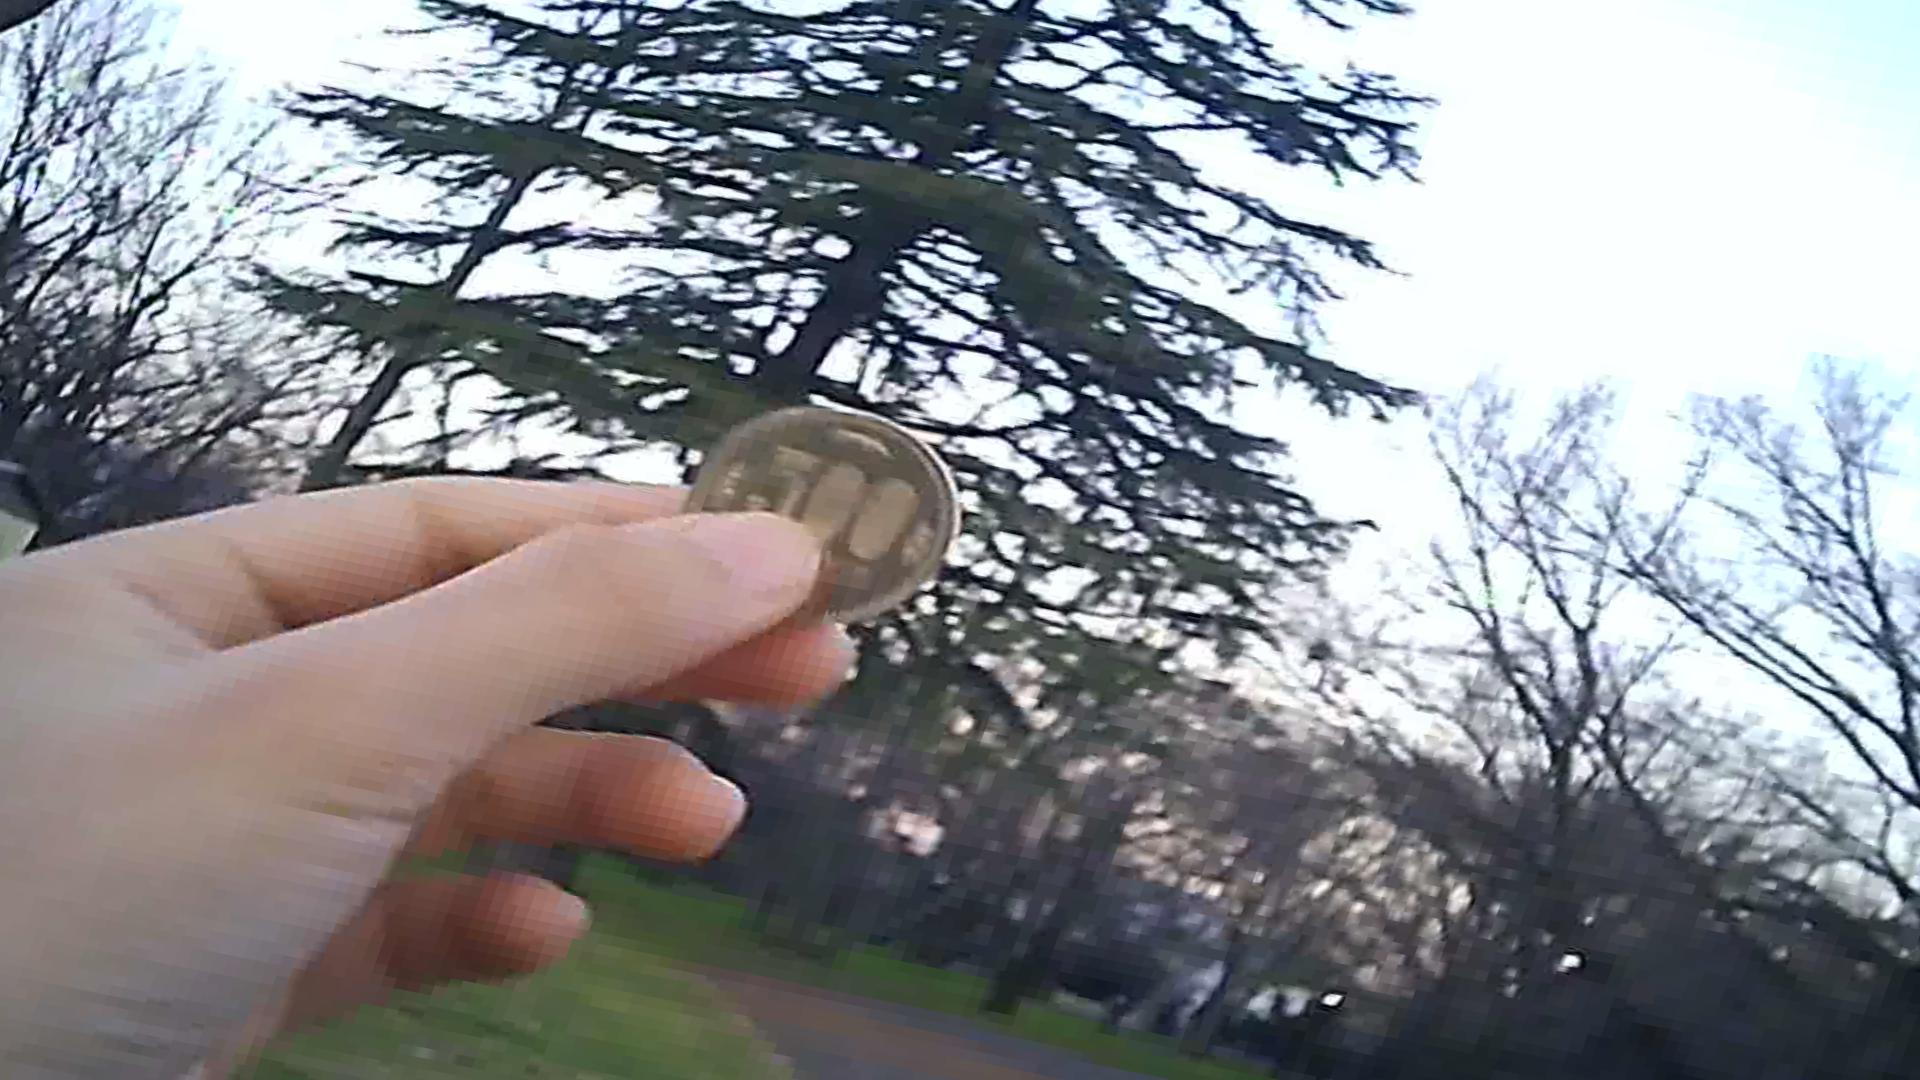500 Yen: (688, 386, 953, 622)
